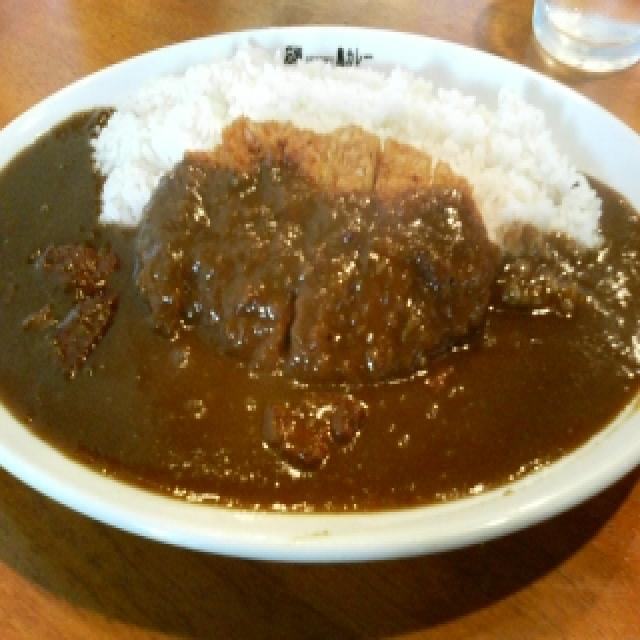猪肉菜式: (0, 11, 640, 560)
